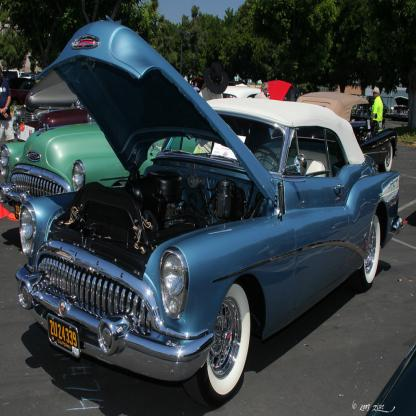Car: (1, 17, 410, 409), (364, 344, 416, 416)
